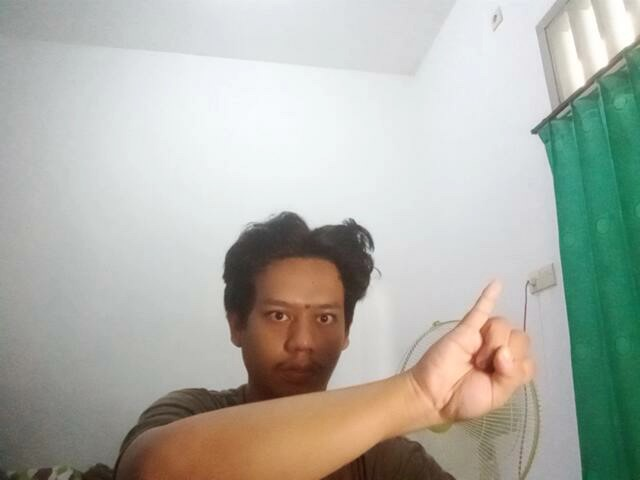I: (412, 272, 539, 424)
